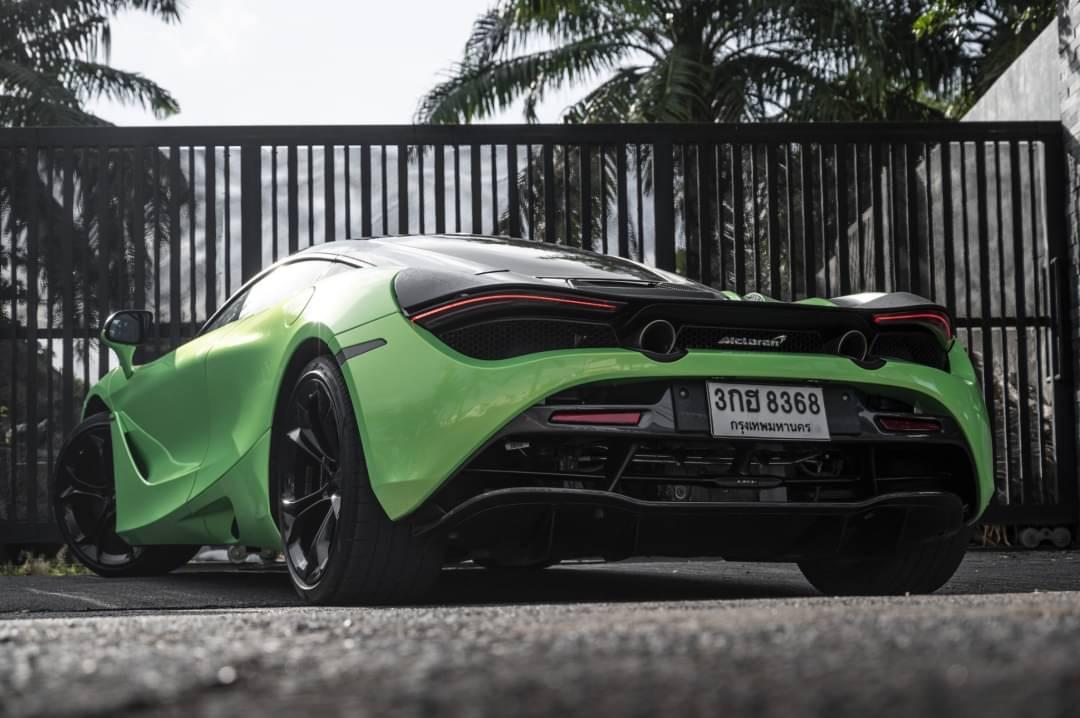license-plate: (703, 374, 836, 446)
